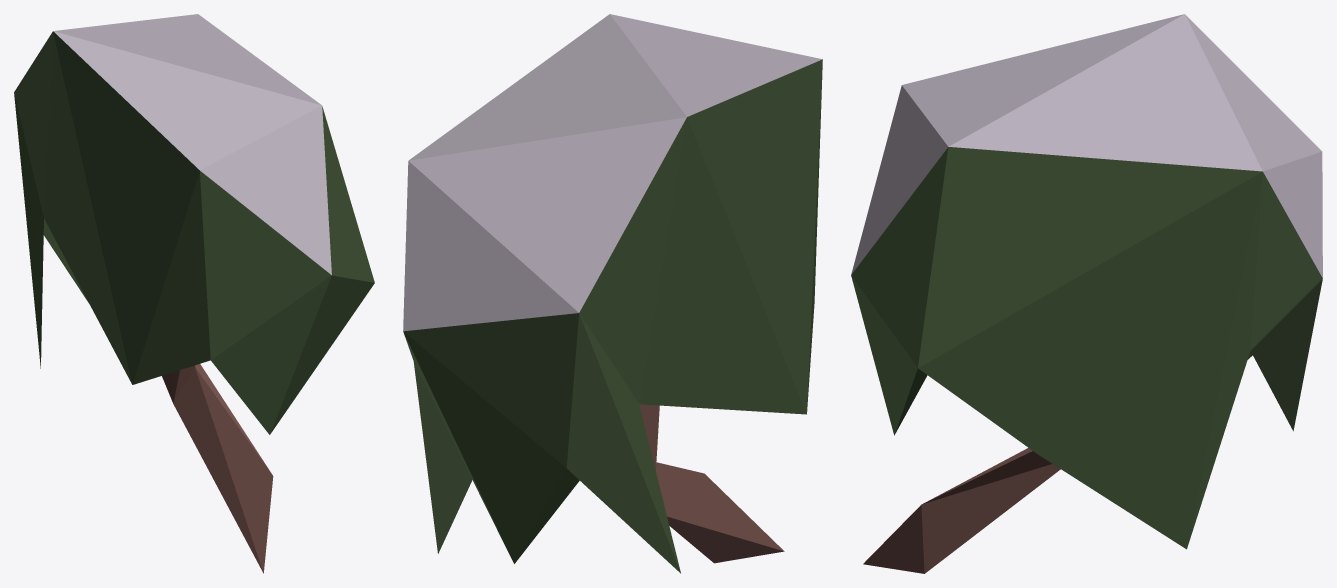
The model's file is Willow_Snow_3.lod3.glb.
The picture shows the model from 3 angles, left to right: view 1: azimuth 30°, elevation 25°; view 2: azimuth 150°, elevation 25°; view 3: azimuth 270°, elevation 25°; orthographic projection. The views are drawn at different scales.
Visible parts, largest first — view 1: Willow_Snow_3; view 2: Willow_Snow_3; view 3: Willow_Snow_3.
Boxes of the visible parts, x1,y1,x2,y2 form: Willow_Snow_3: [14, 14, 374, 573]; Willow_Snow_3: [403, 14, 822, 573]; Willow_Snow_3: [851, 14, 1322, 573].
Size of the model in its own units: 1.13 by 2.34 by 1.95.
